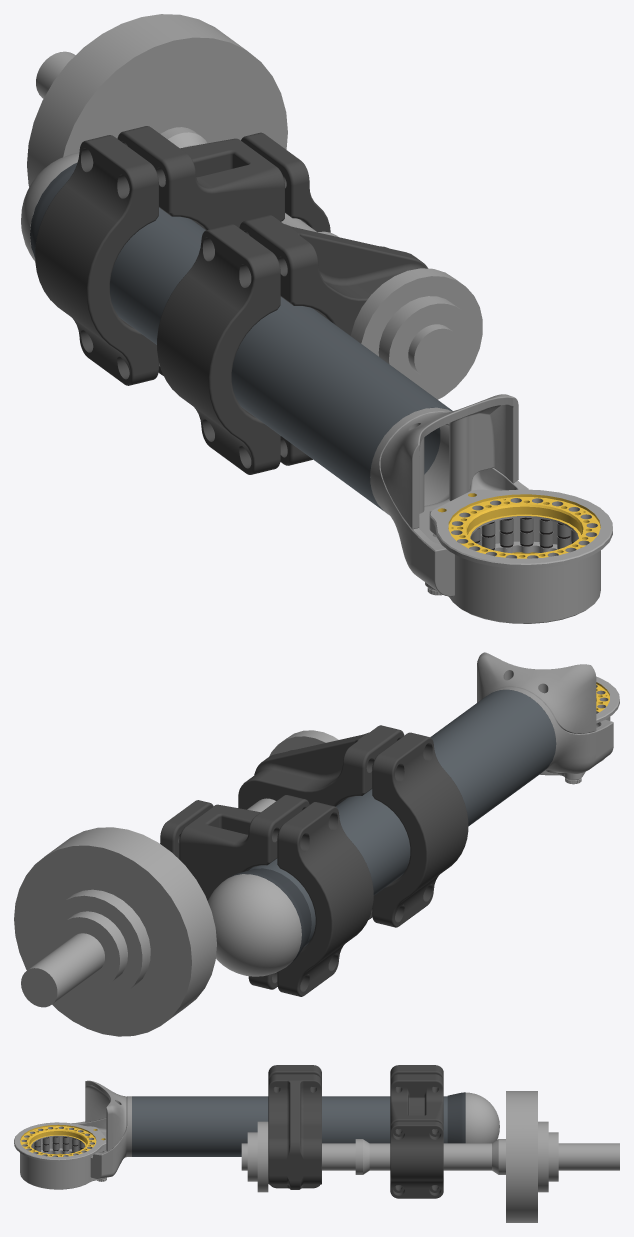
File: LEFT_ELBOW_PITCH_LINK_413mm_LENGTH_5LB.obj
The picture shows the model from 3 angles, top to bottom: view 1: azimuth 30°, elevation 25°; view 2: azimuth 150°, elevation 25°; view 3: azimuth 270°, elevation 25°; orthographic projection. The views are drawn at different scales.
Visible parts, largest first — view 1: mesh1081, mesh276, mesh232, mesh257, mesh277, mesh1201, mesh227, mesh142, mesh3, mesh5, mesh1173, mesh1447 (+28 smaller); view 2: mesh274, mesh1081, mesh232, mesh527, mesh277, mesh247, mesh1447, mesh3, mesh150, mesh279, mesh227, mesh520 (+20 smaller); view 3: mesh1081, mesh277, mesh283, mesh1201, mesh279, mesh296, mesh2, mesh527, mesh287, mesh4, mesh477, mesh1173 (+28 smaller).
Part boxes in pixels (box(x1,y1,x2,y2)): mesh1081: box(110, 207, 452, 510); mesh276: box(63, 37, 287, 156); mesh232: box(35, 184, 238, 432); mesh257: box(89, 185, 279, 464); mesh277: box(27, 14, 246, 187); mesh1201: box(450, 550, 600, 623); mesh227: box(65, 150, 252, 310); mesh142: box(172, 176, 283, 228); mesh3: box(361, 276, 482, 399); mesh5: box(389, 303, 474, 394); mesh1173: box(430, 489, 611, 563); mesh1447: box(380, 413, 444, 511); mesh274: box(14, 845, 191, 1036); mesh1081: box(249, 689, 556, 946); mesh232: box(310, 771, 468, 963); mesh527: box(207, 874, 301, 976); mesh277: box(46, 827, 216, 1023); mesh247: box(278, 771, 425, 988); mesh1447: box(520, 664, 595, 732); mesh3: box(47, 895, 142, 998); mesh150: box(180, 833, 266, 981); mesh279: box(28, 933, 104, 1003); mesh227: box(299, 744, 444, 869); mesh520: box(239, 764, 361, 809); mesh1081: box(132, 1096, 447, 1156); mesh277: box(506, 1091, 537, 1222); mesh283: box(369, 1143, 491, 1170); mesh1201: box(20, 1153, 92, 1189); mesh279: box(558, 1143, 619, 1170); mesh296: box(391, 1148, 442, 1180); mesh2: box(257, 1121, 548, 1192); mesh527: box(465, 1092, 499, 1143); mesh287: box(241, 1143, 355, 1170); mesh4: box(247, 1132, 558, 1181); mesh477: box(269, 1154, 320, 1180); mesh1173: box(14, 1122, 106, 1159).
Size of the model in its own units: 0.1703 by 0.1236 by 0.5664.
